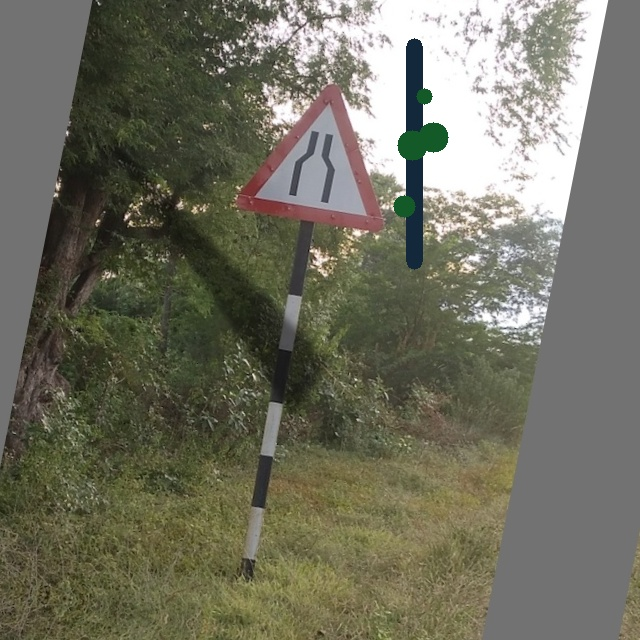Narrow_Road_Ahead: (228, 65, 412, 241)
